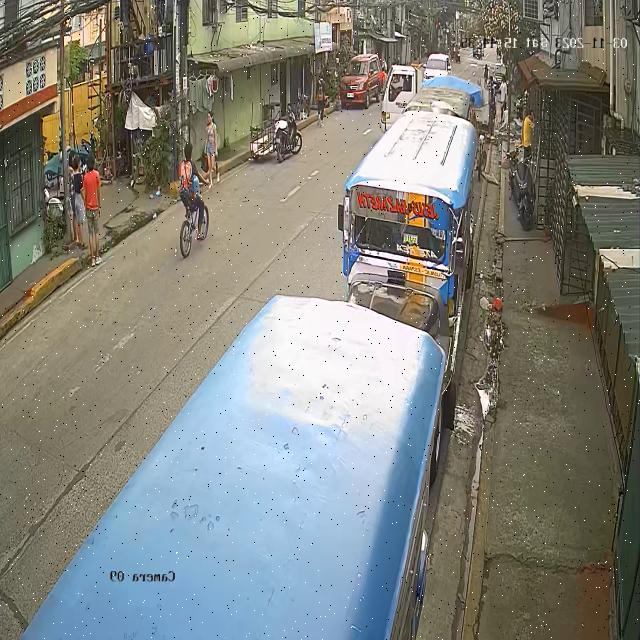human: (201, 110, 220, 190)
trash: (198, 152, 209, 176)
